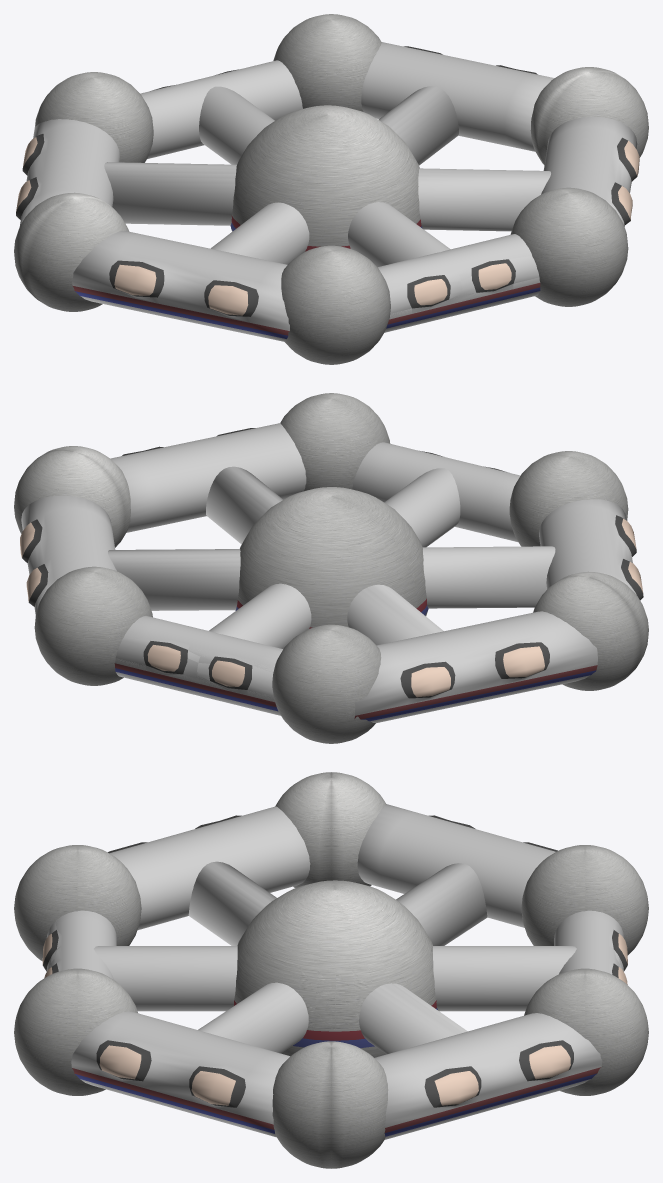
The model's file is Ship.fbx.
3 views of the same model, one above another, from view 1: azimuth 30°, elevation 25°; view 2: azimuth 150°, elevation 25°; view 3: azimuth 270°, elevation 25° (orthographic). The views are drawn at different scales.
Parts seen in each view (by area): view 1: Cylinder, Sphere, Cylinder.001, Sphere.001; view 2: Cylinder, Sphere, Cylinder.001, Sphere.001; view 3: Cylinder, Sphere, Cylinder.001, Sphere.001.
Part boxes in pixels (box(x1,y1,x2,y2)): Cylinder: box(16, 42, 639, 341); Sphere: box(14, 14, 648, 364); Cylinder.001: box(104, 86, 550, 267); Sphere.001: box(230, 105, 422, 251); Cylinder: box(20, 423, 643, 723); Sphere: box(14, 393, 648, 743); Cylinder.001: box(108, 466, 555, 648); Sphere.001: box(235, 487, 428, 628); Cylinder: box(42, 804, 627, 1139); Sphere: box(14, 772, 648, 1168); Cylinder.001: box(94, 861, 576, 1054); Sphere.001: box(234, 880, 437, 1057).
Size of the model in its own units: 1198 by 334 by 995.
